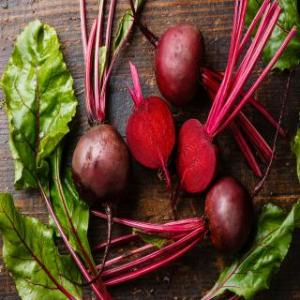beet: (74, 127, 128, 207), (155, 24, 207, 104), (206, 182, 256, 250), (127, 100, 175, 168), (178, 117, 215, 197)
